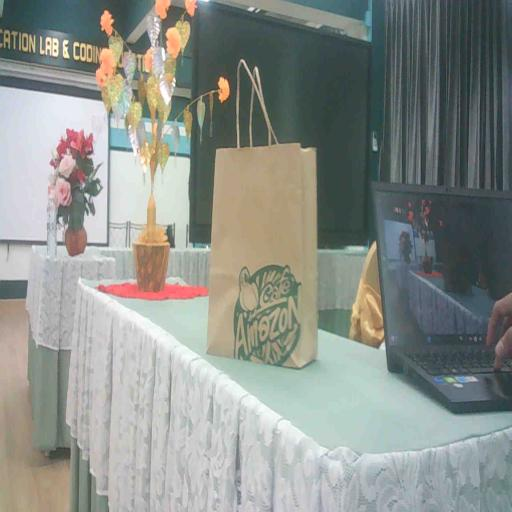bag: (199, 130, 332, 389)
